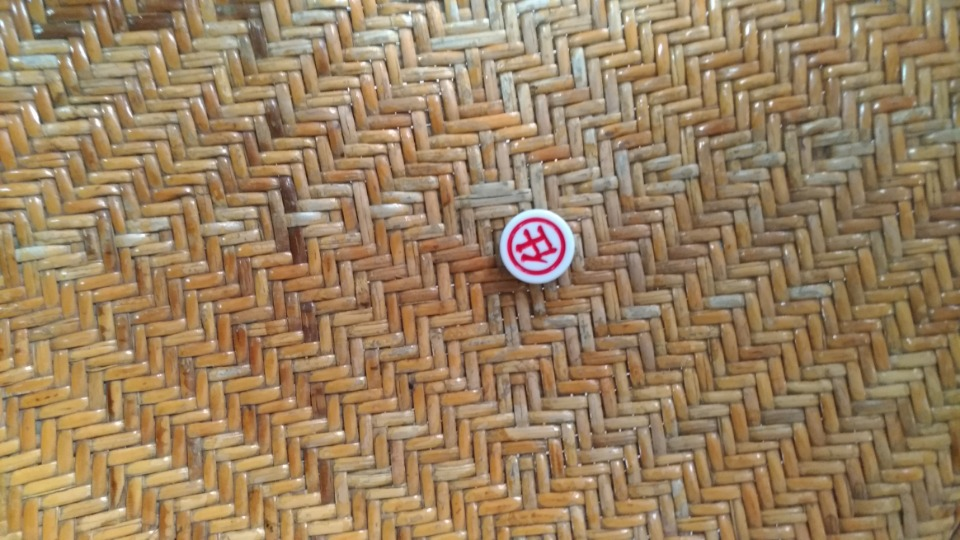r-advisor: (491, 200, 597, 299)
